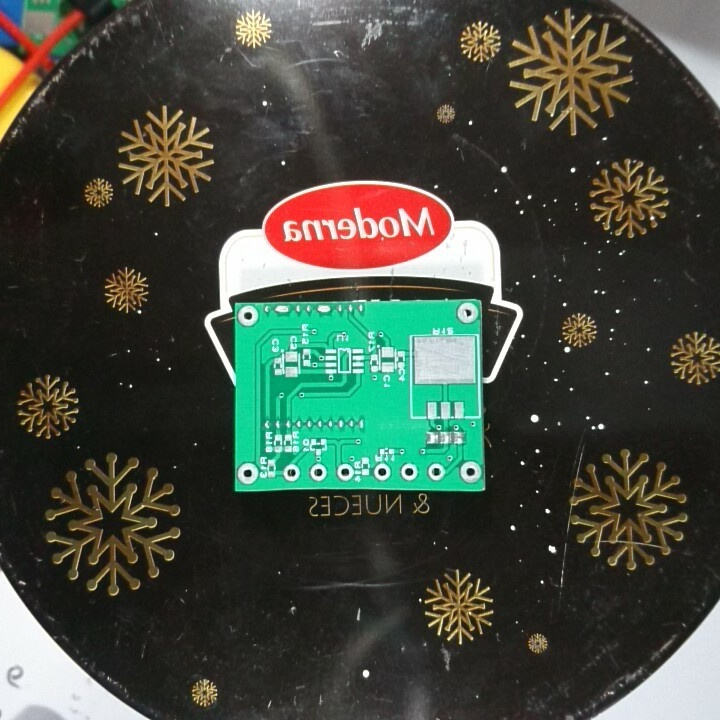F: (236, 302, 262, 329), (457, 458, 482, 486), (236, 460, 261, 486), (454, 299, 479, 324), (399, 462, 421, 484), (308, 462, 330, 484), (371, 462, 394, 483), (335, 461, 355, 484), (281, 463, 302, 483), (426, 460, 445, 482)
P: (314, 302, 334, 318), (272, 303, 292, 318)
